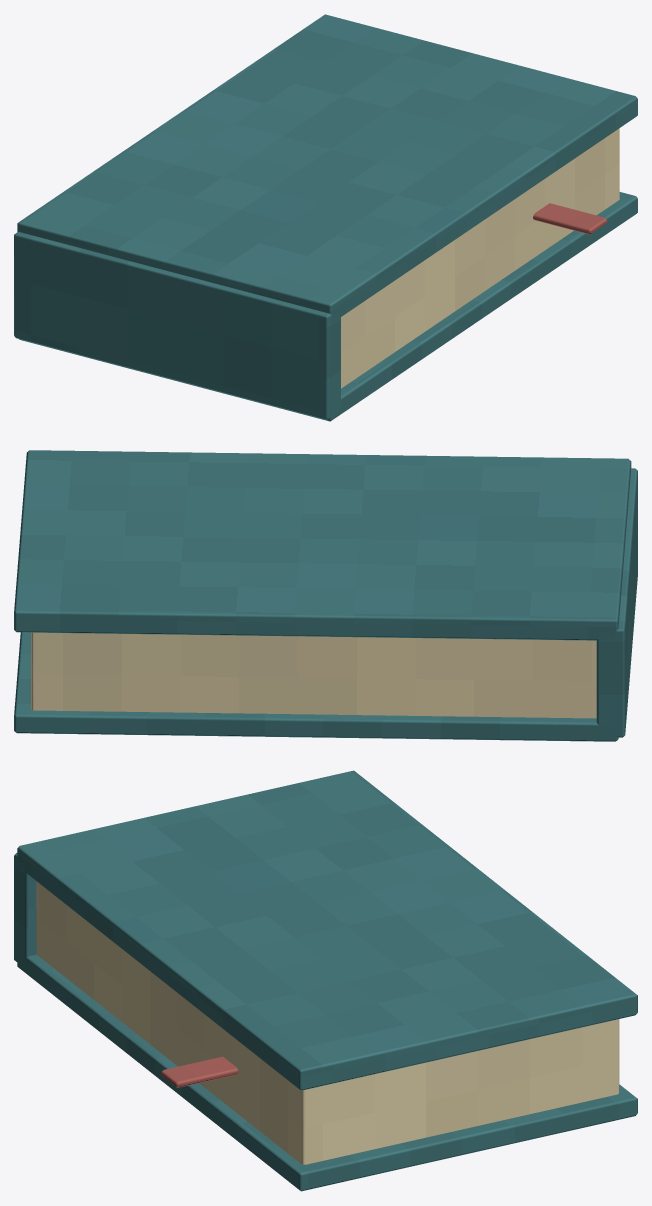
The model's file is LaundryLedger.glb.
3 renders of one model, top to bottom at view 1: azimuth 30°, elevation 25°; view 2: azimuth 150°, elevation 25°; view 3: azimuth 270°, elevation 25°, orthographic. The views are drawn at different scales.
Visible parts, largest first — view 1: LaundryLedger.Linen-cover, LaundryLedger.Pages, LaundryLedger.Bookmark; view 2: LaundryLedger.Linen-cover, LaundryLedger.Pages; view 3: LaundryLedger.Linen-cover, LaundryLedger.Pages, LaundryLedger.Bookmark.
Part boxes in pixels (x1,y1,x2,y2): LaundryLedger.Linen-cover: (14,14,637,421); LaundryLedger.Pages: (341,128,619,388); LaundryLedger.Bookmark: (533,203,607,234); LaundryLedger.Linen-cover: (14,450,637,741); LaundryLedger.Pages: (31,632,596,718); LaundryLedger.Linen-cover: (14,770,637,1191); LaundryLedger.Pages: (36,881,619,1164); LaundryLedger.Bookmark: (160,1056,238,1087).
Size of the model in its own units: 0.4775 by 0.09 by 0.4155.
3 materials, 3 textured.
